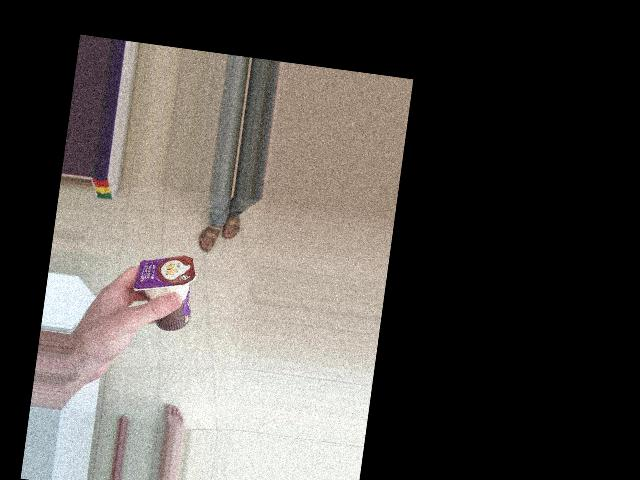milky: (142, 244, 224, 321)
